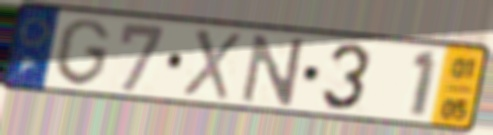1: (408, 49, 439, 120)
3: (318, 41, 377, 114)
7: (116, 19, 169, 95)
G: (52, 16, 113, 89)
N: (238, 31, 309, 107)
X: (179, 26, 243, 103)
